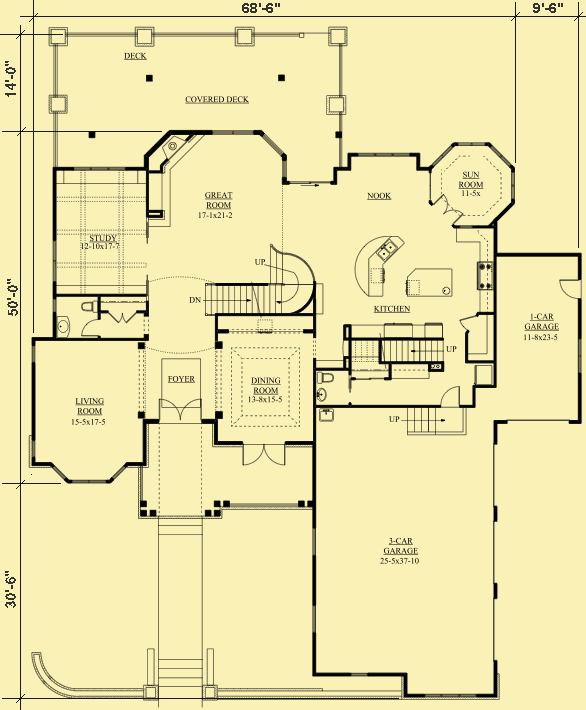door: (238, 436, 292, 469), (151, 396, 207, 427), (435, 192, 466, 224), (558, 274, 585, 303), (102, 308, 138, 326), (439, 384, 465, 408), (79, 319, 101, 339)
kitchen bar: (403, 266, 456, 303)
large sink: (75, 293, 99, 317), (315, 367, 337, 386)
small sink: (52, 315, 70, 339), (311, 384, 330, 406)
stairs: (185, 243, 332, 312), (340, 320, 458, 375), (144, 642, 221, 705), (391, 405, 470, 439)
windows: (203, 124, 263, 141), (349, 148, 415, 160), (414, 690, 484, 701), (61, 475, 109, 490), (49, 233, 60, 286), (307, 594, 319, 636)
